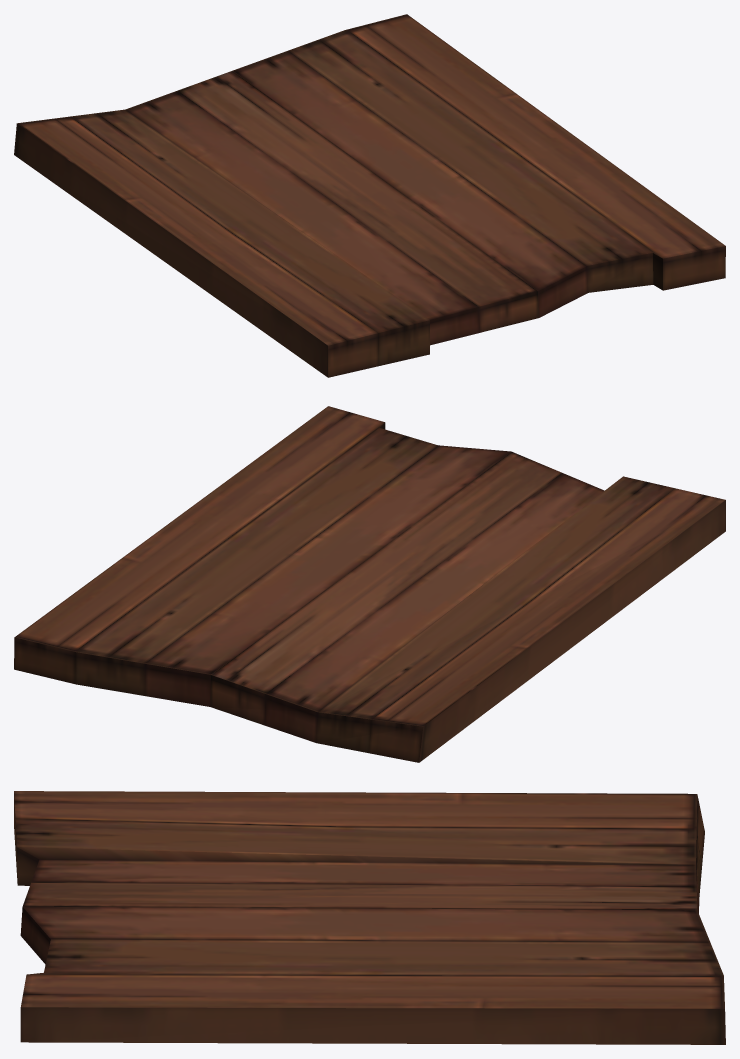
File: 2_YiZhan_JiaoShouJia_03.FBX
3 renders of one model, top to bottom at view 1: azimuth 30°, elevation 25°; view 2: azimuth 150°, elevation 25°; view 3: azimuth 270°, elevation 25°, orthographic. The views are drawn at different scales.
Parts seen in each view (by area): view 1: 2_YiZhan_JiaoShouJia_08; view 2: 2_YiZhan_JiaoShouJia_08; view 3: 2_YiZhan_JiaoShouJia_08.
Part boxes in pixels (x1=…): 2_YiZhan_JiaoShouJia_08: x1=14, y1=14, x2=725, y2=377; 2_YiZhan_JiaoShouJia_08: x1=14, y1=406, x2=725, y2=762; 2_YiZhan_JiaoShouJia_08: x1=14, y1=791, x2=725, y2=1044.
Size of the model in its own units: 346 by 38.1 by 480.
Materials: 1 (1 with a texture image).
